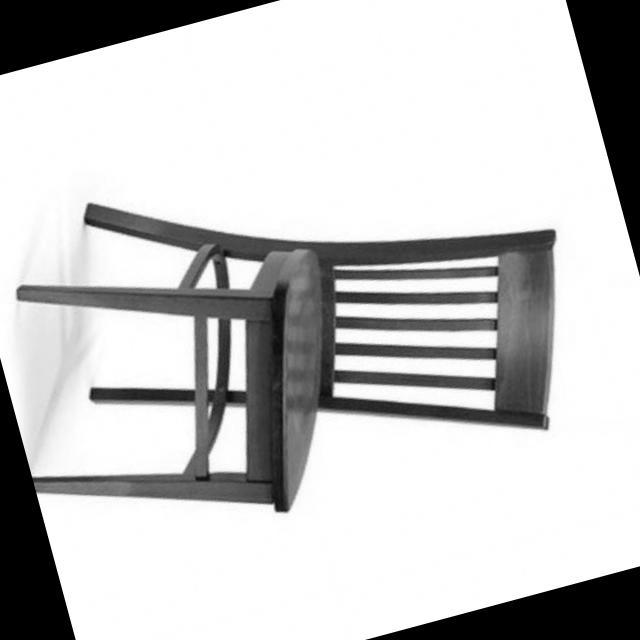chair: (0, 81, 611, 575)
